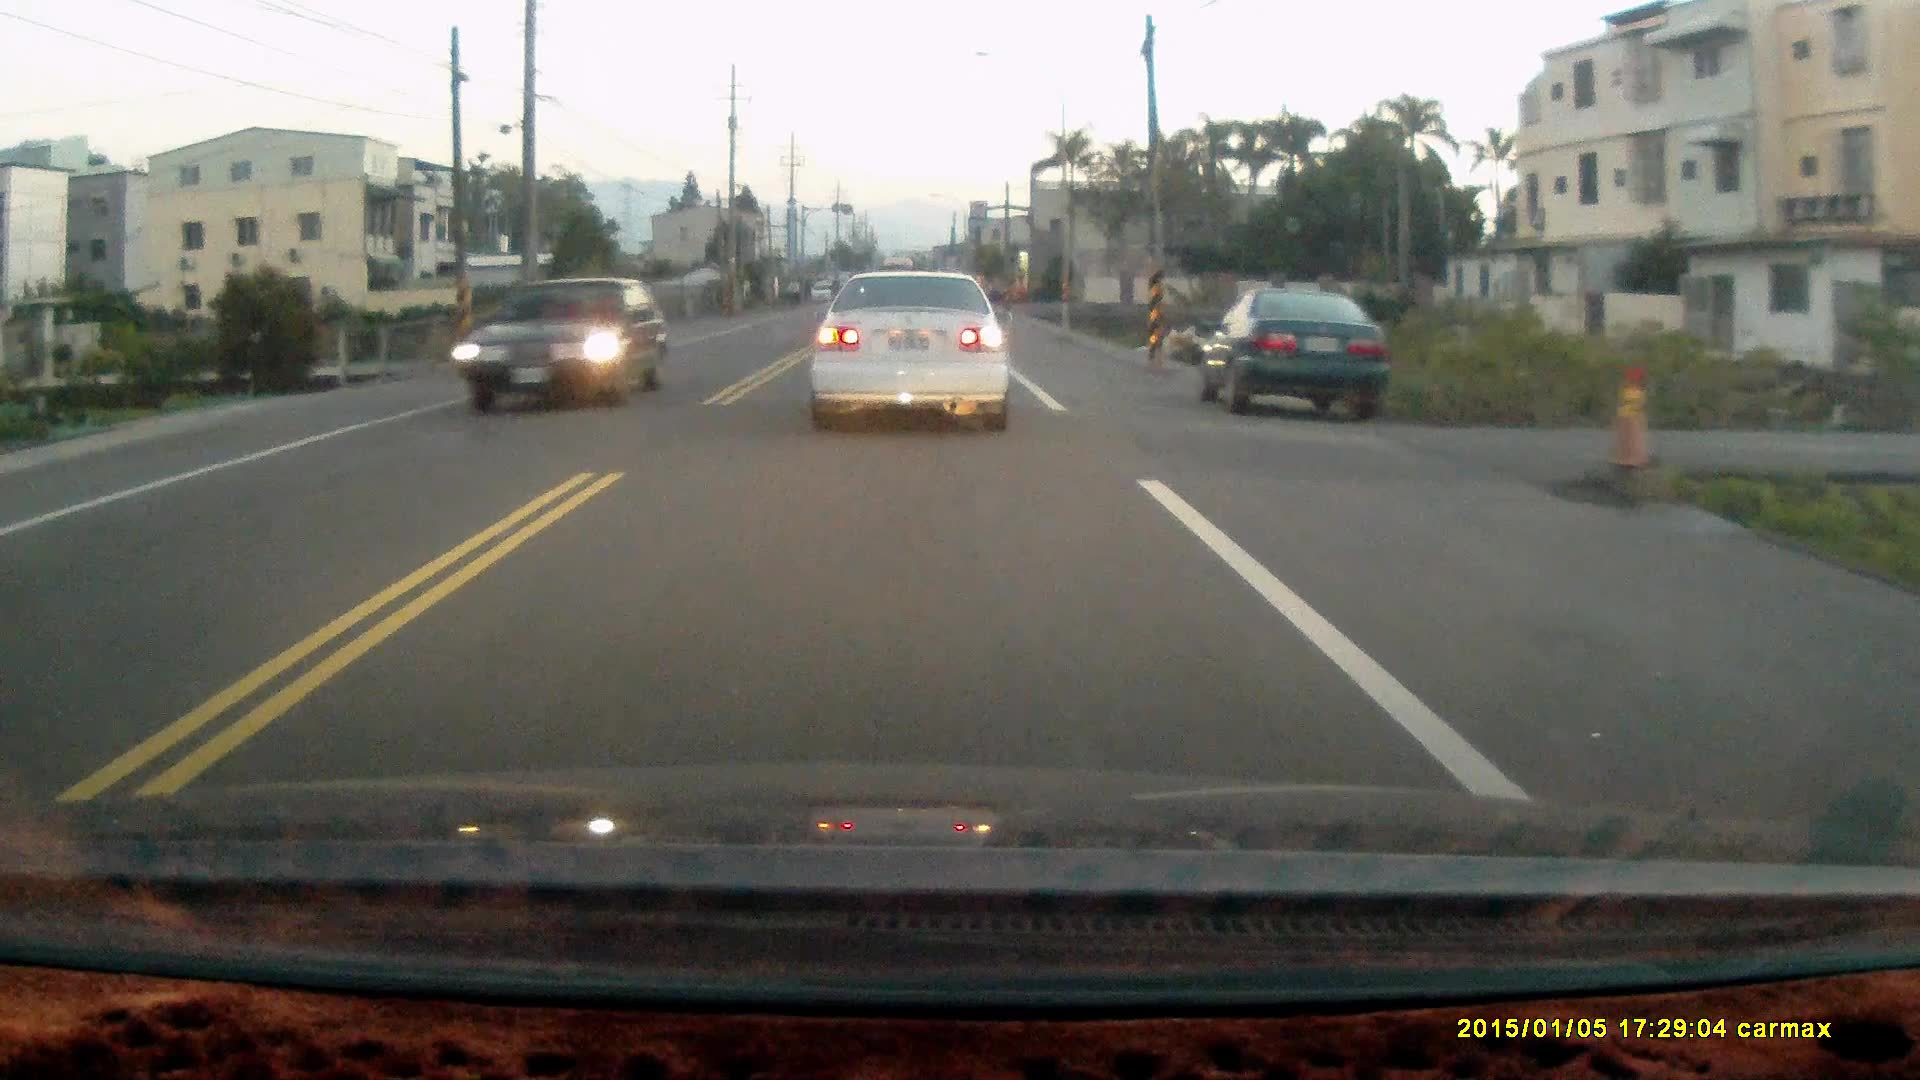vehicle: (804, 268, 1015, 439), (458, 277, 667, 411), (1200, 289, 1393, 425)
